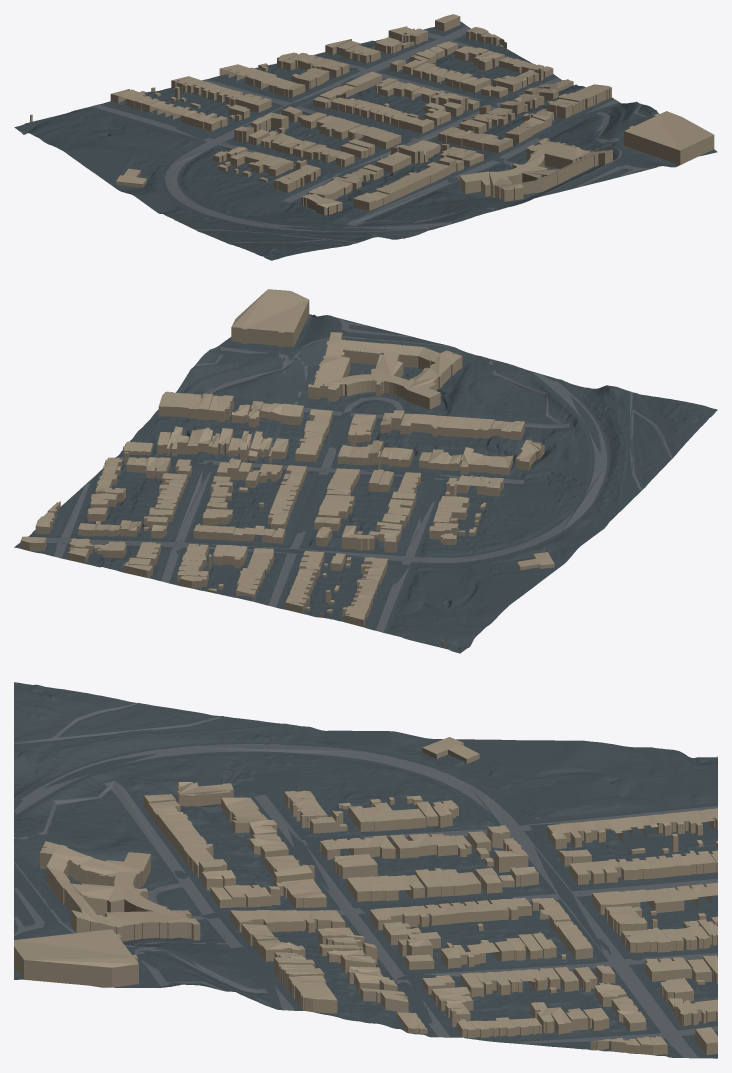
Rendered from epsg26910-1436-10870.lod0.glb.
3 views of the same model, one above another, from view 1: azimuth 30°, elevation 25°; view 2: azimuth 150°, elevation 25°; view 3: azimuth 270°, elevation 25° (orthographic). The views are drawn at different scales.
Parts seen in each view (by area): view 1: epsg26910-1436-10870-lod0; view 2: epsg26910-1436-10870-lod0; view 3: epsg26910-1436-10870-lod0.
Boxes of the visible parts, box(x1,y1,x2,y2) form: epsg26910-1436-10870-lod0: box(14, 14, 717, 260); epsg26910-1436-10870-lod0: box(14, 289, 717, 653); epsg26910-1436-10870-lod0: box(14, 682, 717, 1058).
Bounding box in the file's own units: 384 × 59.8 × 384.
